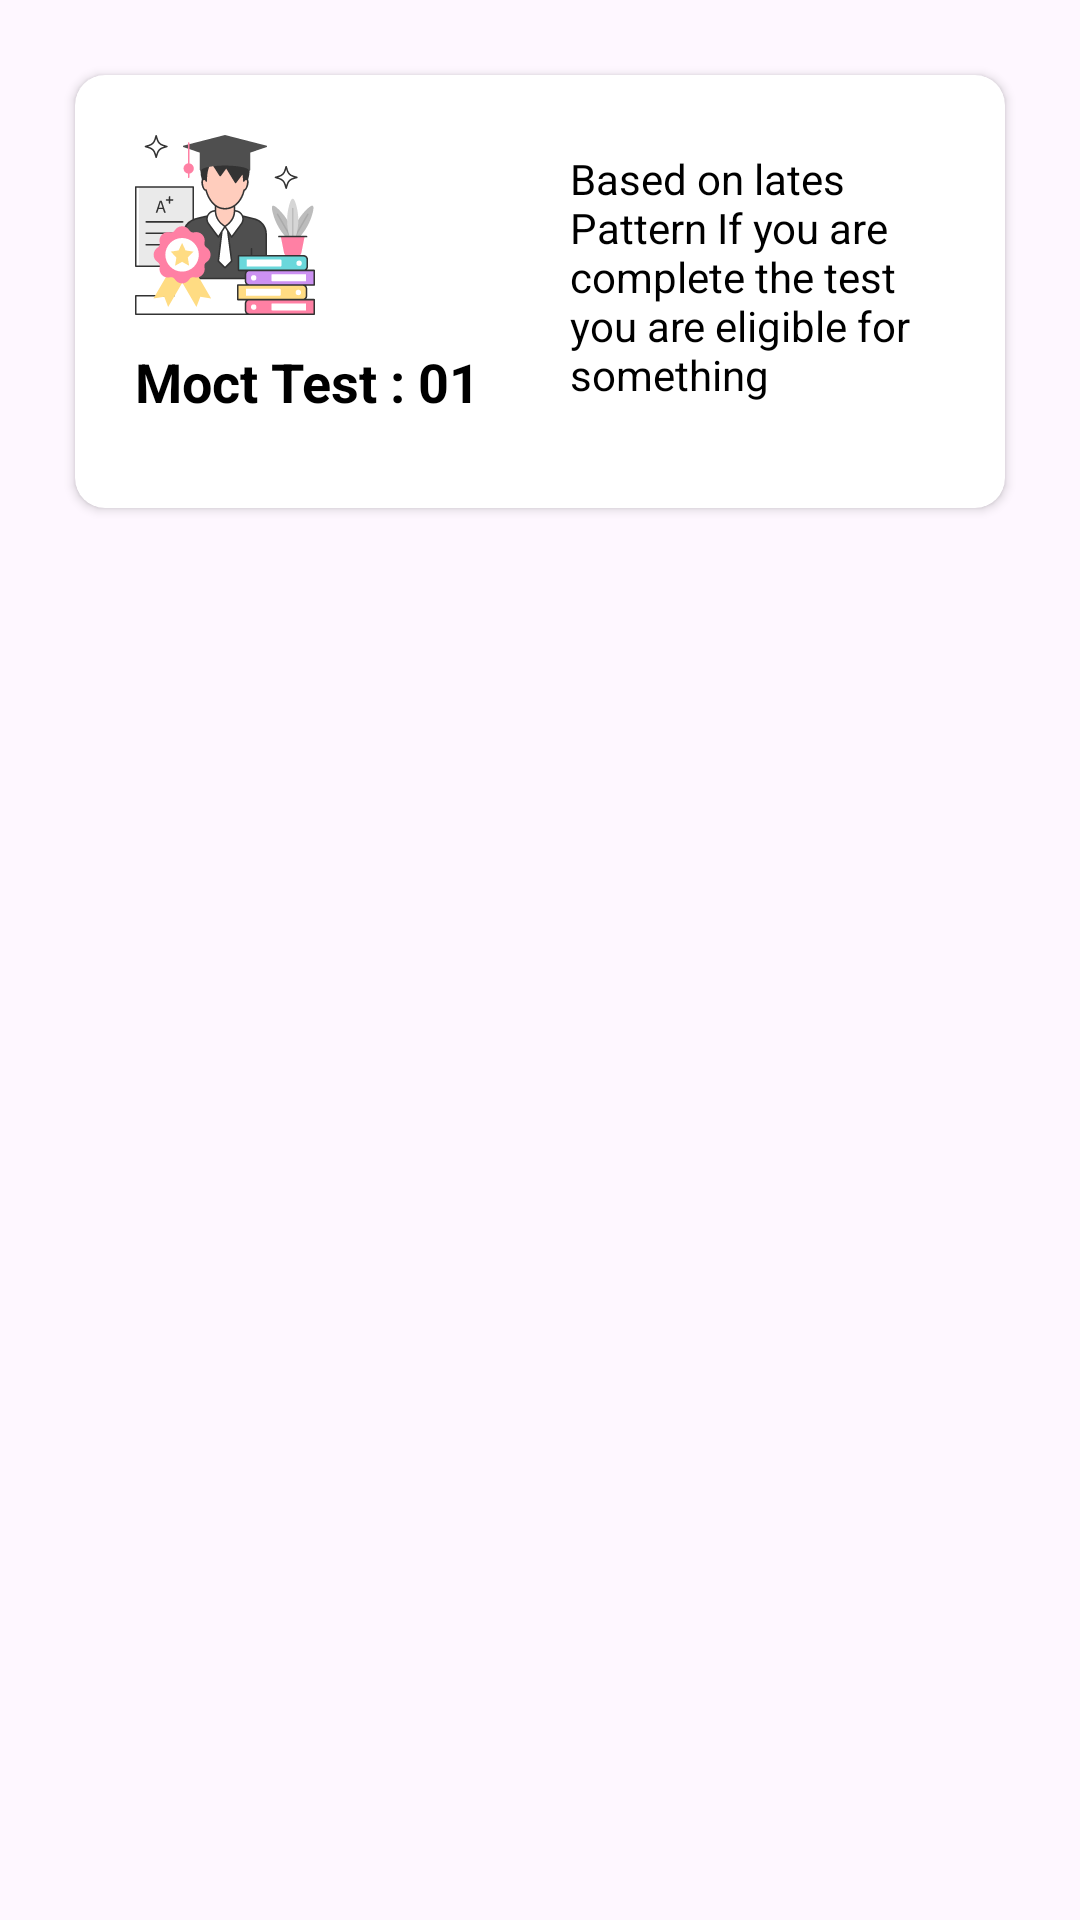

Named icons in this screenshot (1080x1920) and their bounding boxes, BBox(x1, y1, x2, y2):
scholor: BBox(135, 135, 315, 315)
